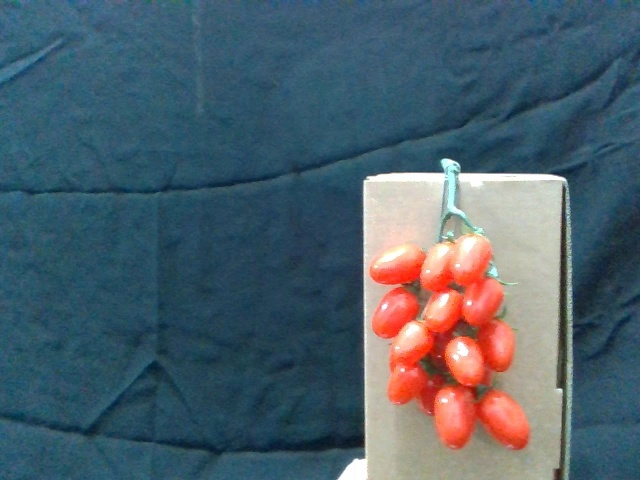tomato: (478, 386, 532, 452), (433, 383, 477, 449), (441, 334, 491, 389), (369, 289, 419, 341), (371, 246, 426, 287), (478, 317, 518, 373), (390, 322, 439, 367), (452, 232, 494, 284), (463, 275, 506, 325), (422, 291, 467, 336), (422, 242, 458, 294), (384, 364, 427, 406)
